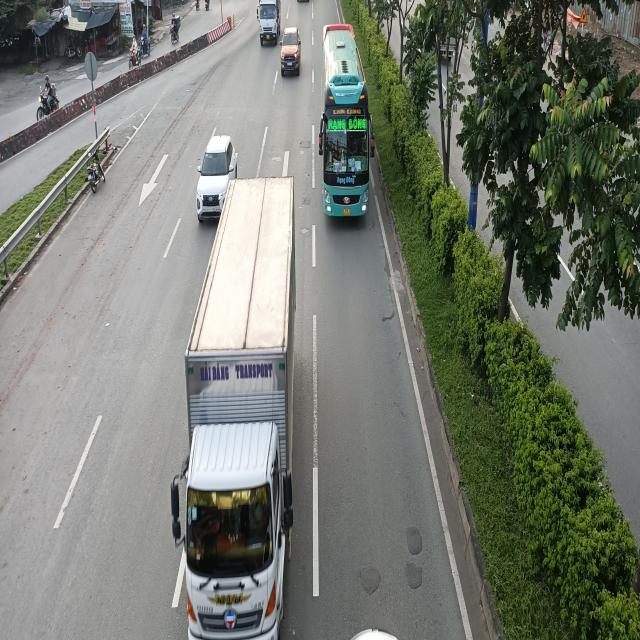car: (197, 133, 237, 223), (279, 26, 302, 77)
coach: (319, 23, 375, 222)
truck: (175, 173, 303, 639), (256, 0, 280, 45)
